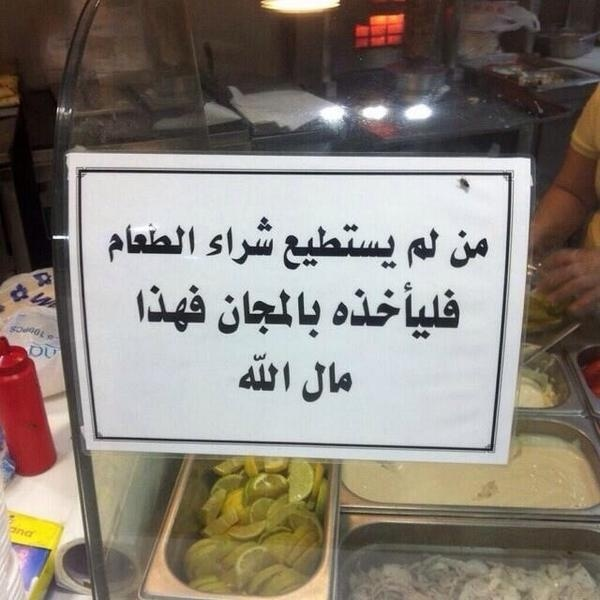text: (337, 279, 352, 344), (353, 279, 368, 344), (369, 279, 384, 344), (385, 279, 400, 344), (401, 279, 416, 344), (417, 279, 432, 344), (433, 279, 448, 344), (449, 279, 462, 344), (145, 283, 160, 335), (161, 283, 176, 335), (177, 283, 192, 335), (289, 222, 304, 272), (305, 222, 320, 272), (321, 222, 336, 272), (337, 222, 352, 272), (353, 222, 368, 272), (369, 222, 384, 272), (225, 217, 240, 267), (241, 217, 256, 267), (257, 217, 272, 267), (225, 289, 240, 339), (241, 289, 256, 339), (257, 289, 272, 339), (273, 289, 288, 339), (289, 289, 304, 339), (305, 289, 320, 339), (193, 283, 207, 335), (337, 361, 353, 406), (417, 225, 432, 270), (305, 361, 320, 406), (321, 361, 336, 406), (113, 220, 128, 264), (129, 220, 144, 264), (145, 220, 160, 264), (161, 220, 176, 264), (177, 220, 192, 264), (385, 222, 397, 272), (241, 354, 256, 394), (257, 354, 272, 394), (273, 354, 288, 394), (465, 231, 480, 269), (213, 217, 224, 267), (49, 289, 65, 318), (407, 225, 416, 270), (481, 231, 491, 269), (137, 283, 144, 335), (433, 225, 440, 270), (273, 217, 279, 267), (33, 342, 48, 360), (457, 231, 464, 269), (219, 289, 224, 339), (40, 289, 48, 318), (107, 220, 112, 264), (17, 325, 32, 339), (33, 325, 48, 339), (284, 222, 288, 272), (17, 526, 32, 539), (49, 342, 57, 360), (289, 354, 292, 394), (321, 289, 323, 339), (10, 526, 16, 539), (11, 325, 16, 339), (29, 342, 32, 360), (303, 361, 304, 406), (193, 220, 194, 264), (33, 526, 36, 539)
